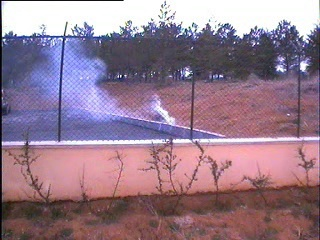smoke: (37, 39, 178, 125)
